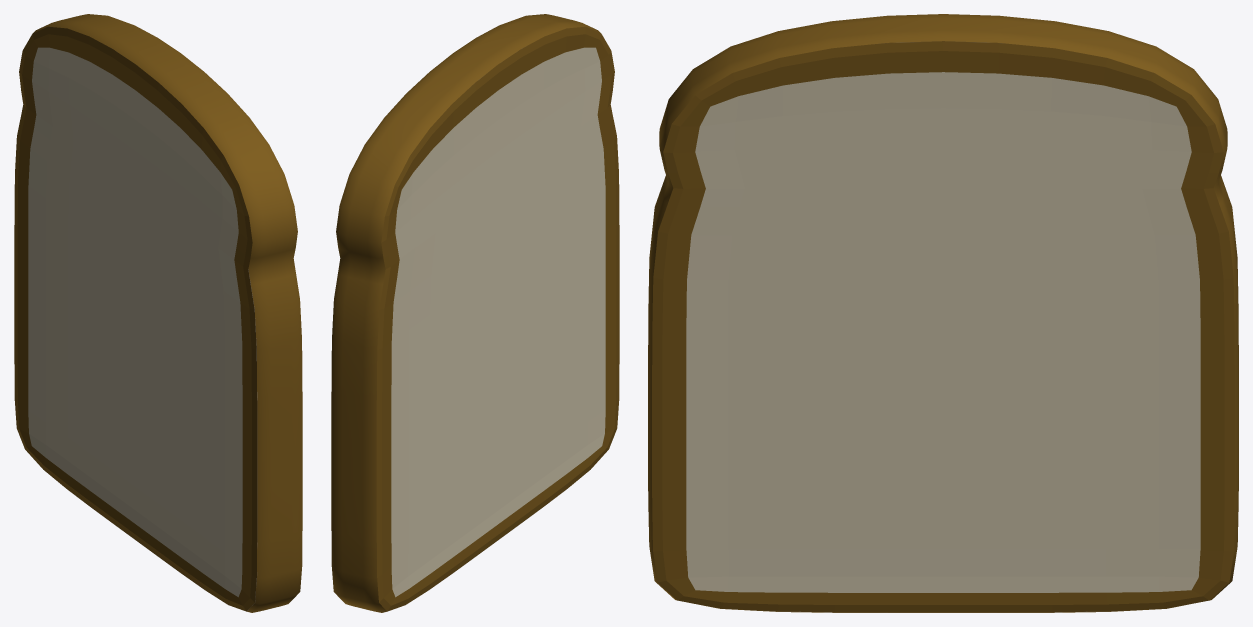
File: bread1.fbx
3 renders of one model, left to right at view 1: azimuth 30°, elevation 25°; view 2: azimuth 150°, elevation 25°; view 3: azimuth 270°, elevation 25°, orthographic. The views are drawn at different scales.
Visible parts, largest first — view 1: Plane; view 2: Plane; view 3: Plane.
Part boxes in pixels (x1,y1,x2,y2): Plane: [14, 14, 302, 612]; Plane: [331, 14, 619, 612]; Plane: [648, 14, 1238, 612].
Size of the model in its own units: 0.1214 by 1.18 by 1.09.
1 material, 1 textured.
